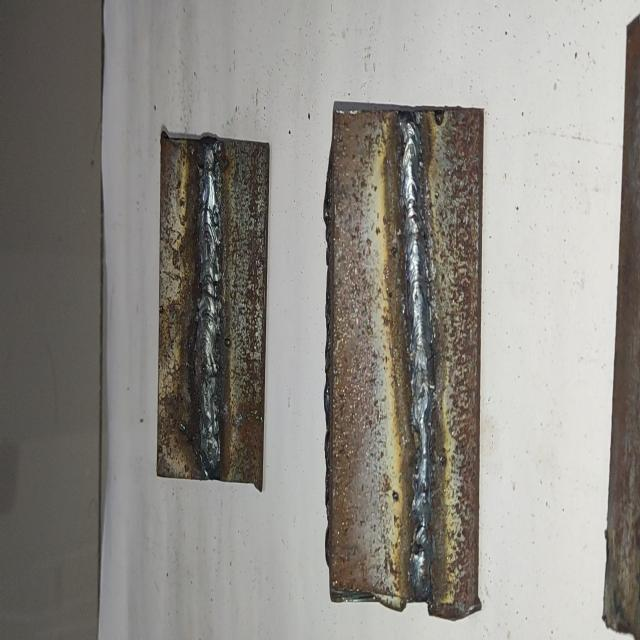Good Weld: (396, 118, 436, 598), (194, 145, 224, 476)
